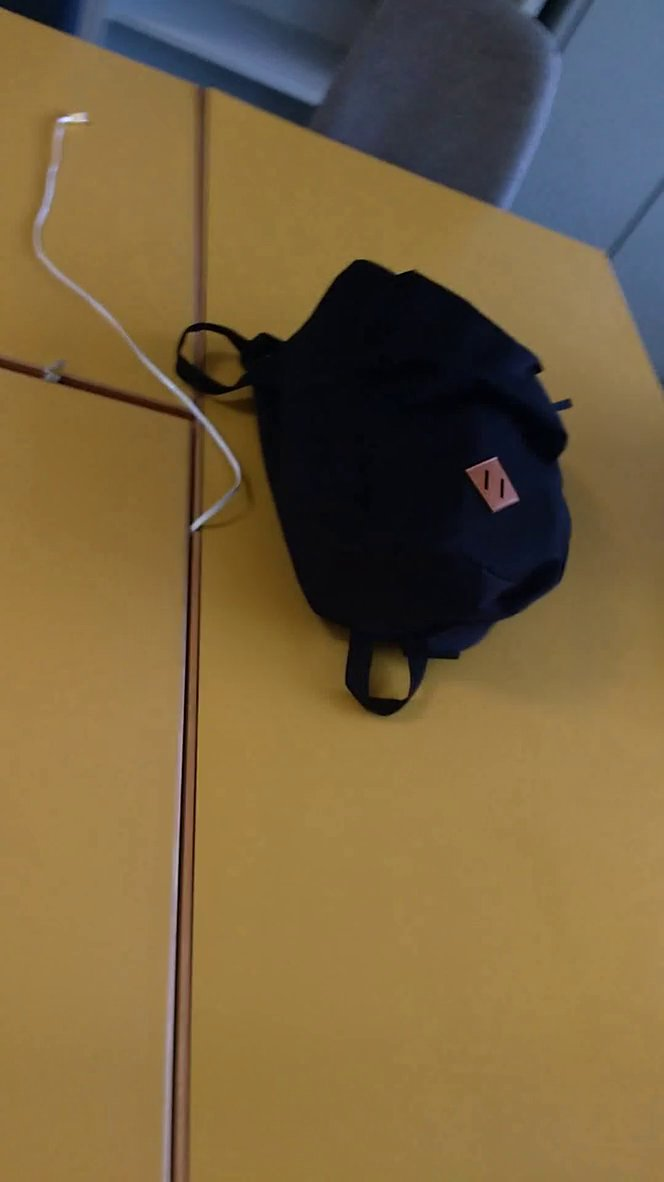bag: (174, 242, 581, 735)
chair: (307, 1, 568, 255)
